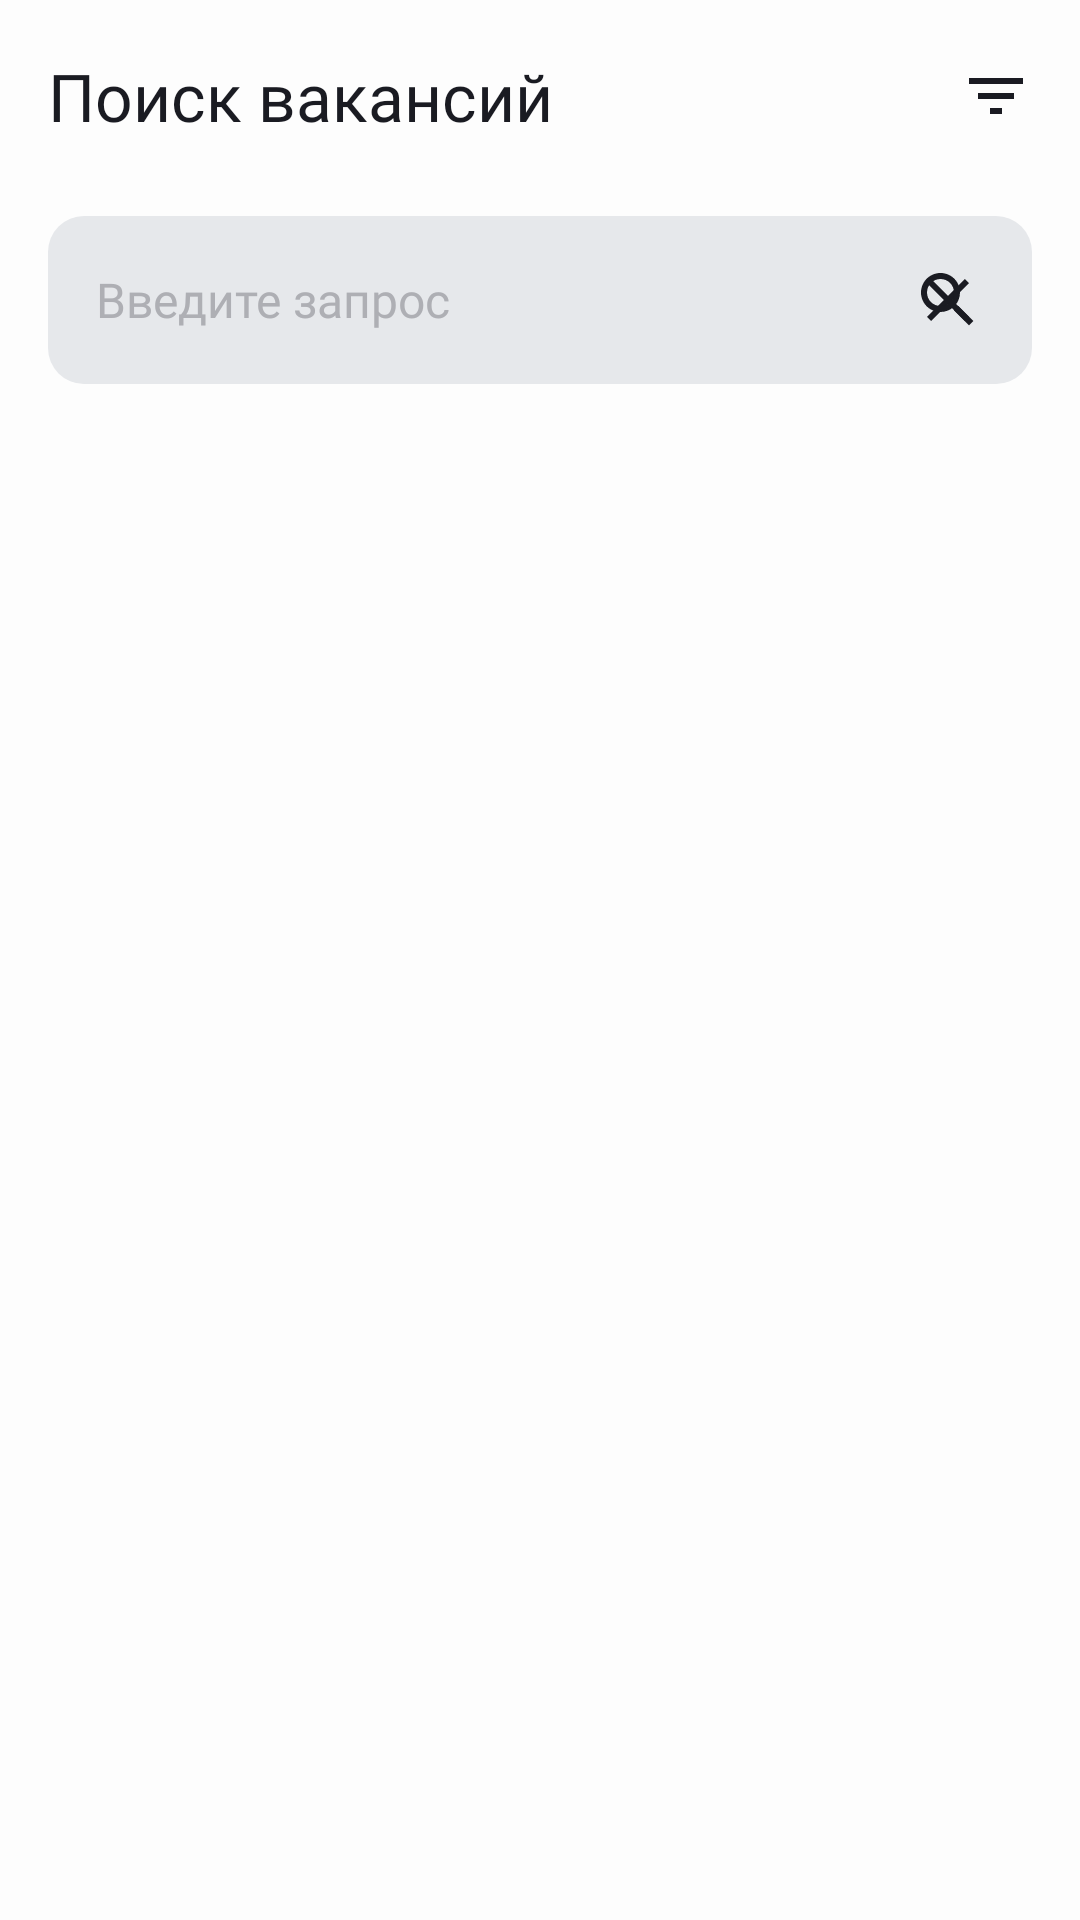

Icons on this 1080px x 1920px Android screen, each with its box as (x1, y1, x2, y2):
К фильтрам: (969, 78, 1023, 114)
